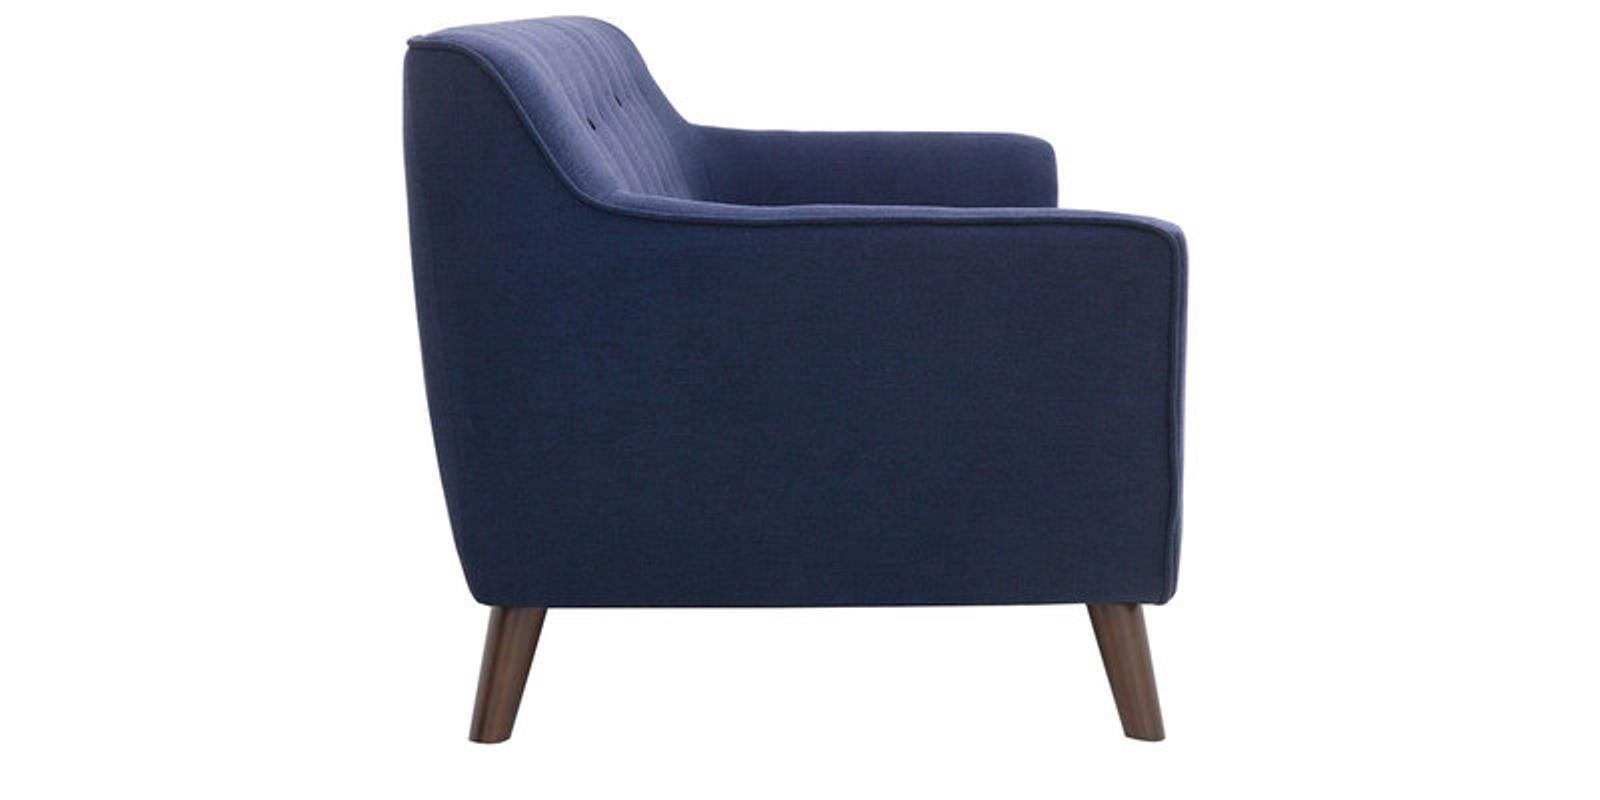Bogota Three Seater Sofa in Blue Colour by CasaCraft: (368, 10, 1214, 695)
